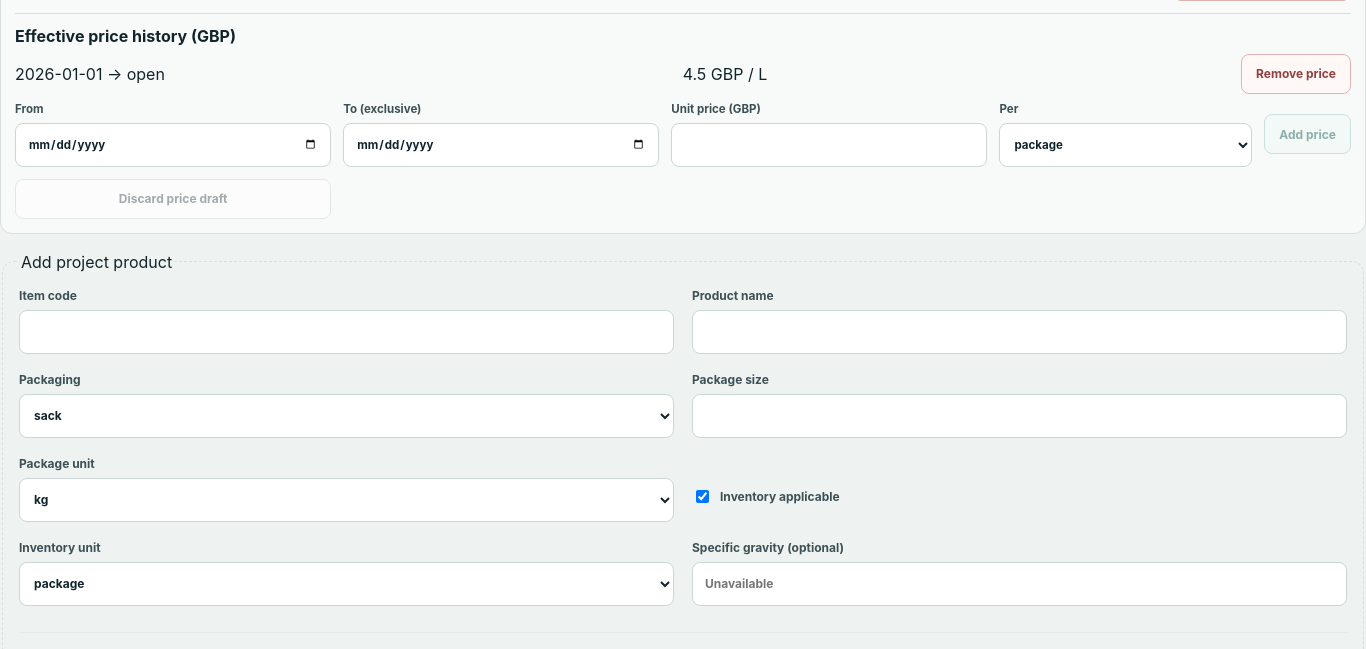
Test: product and pricing grid › VTX-PRO-001 exposes non-inventory creation and field-level server errors
This screenshot has width=1366, height=649.
(page scrolled)
Expected: the text "2026-01-01 → open" is shown, x1=15 y1=64 x2=165 y2=84
Click the checkbox labelled "Inventory applicable" at (702, 497), box x1=696 y1=490 x2=709 y2=503
(page scrolled)
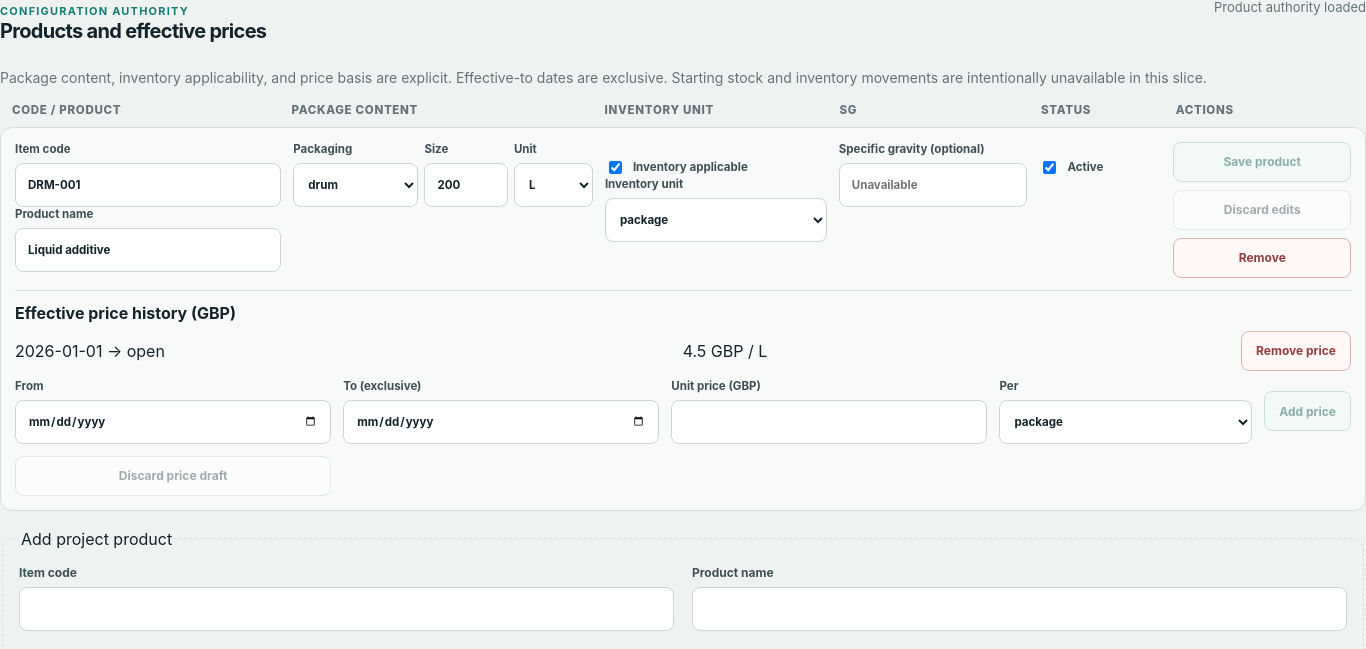
Replace the text in the field labelled "Size" with "0" at (466, 185), box x1=424 y1=163 x2=508 y2=207
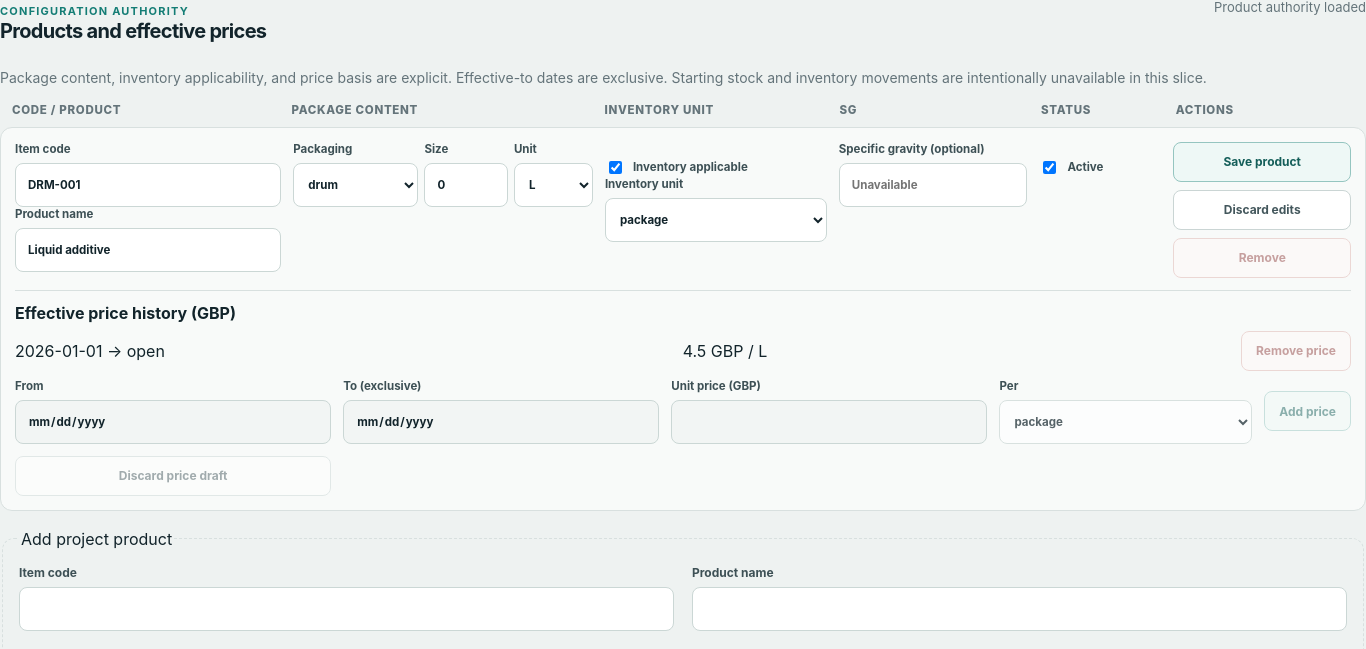
Click the button "Save product" at (1262, 162), box x1=1174 y1=142 x2=1351 y2=182
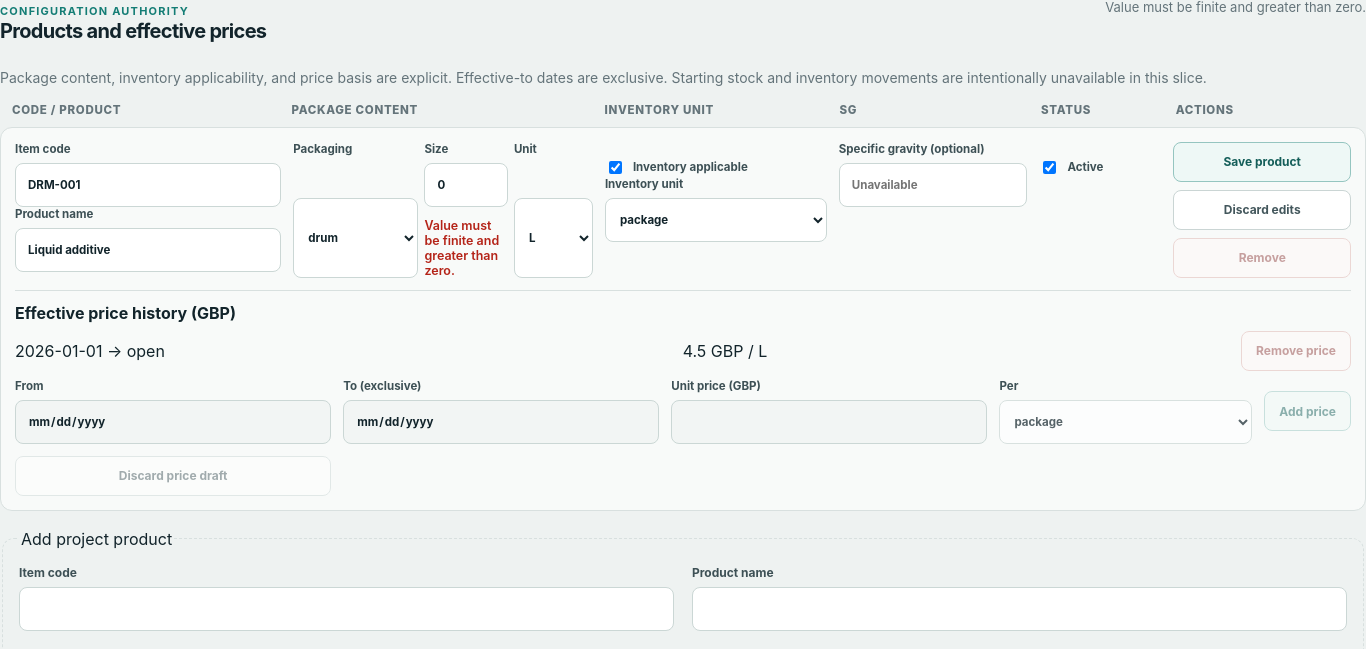
Expected: the message reads "Value must be finite and greater than zero.", x1=424 y1=218 x2=499 y2=278
